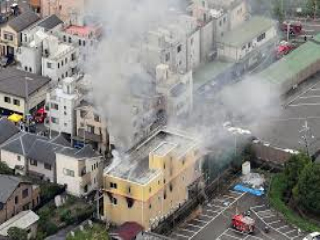smoke: (88, 16, 260, 191)
